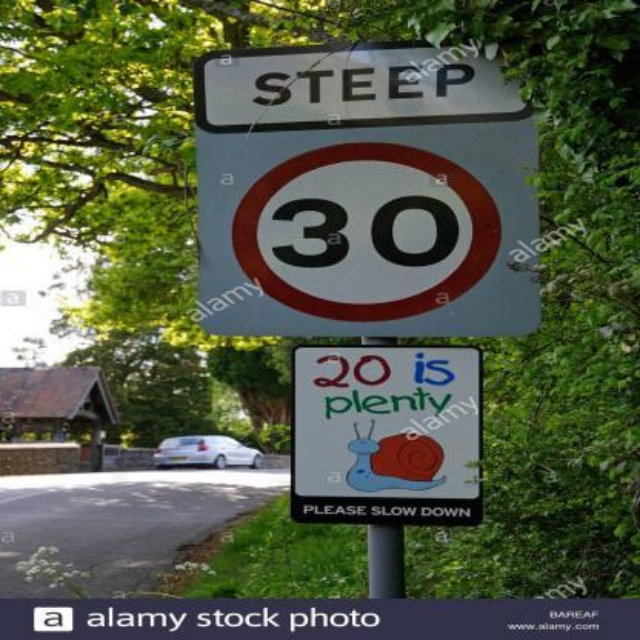Tốc độ tối đa cho phép 30km/h: (236, 143, 502, 319)
